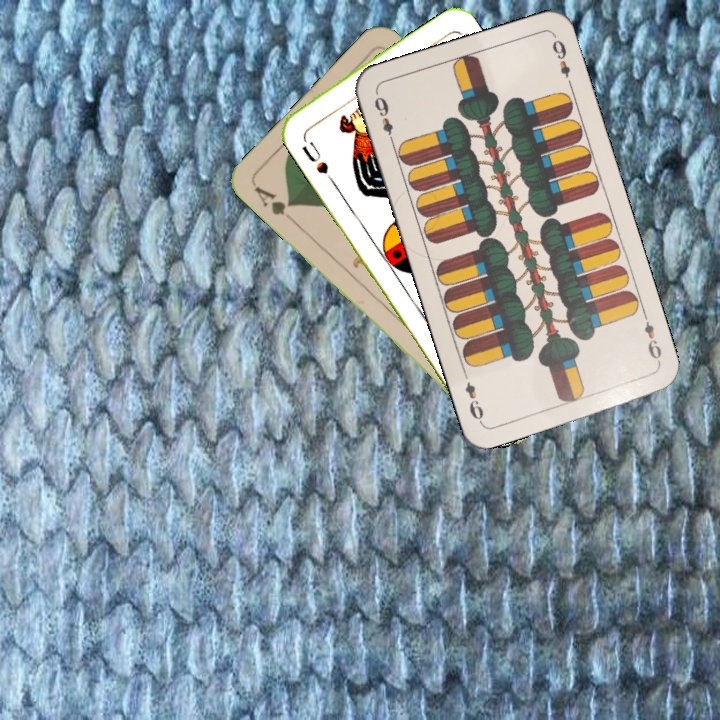E9: (370, 90, 397, 147), (639, 309, 664, 367)
GA: (250, 182, 298, 224)
SU: (298, 131, 336, 184)
